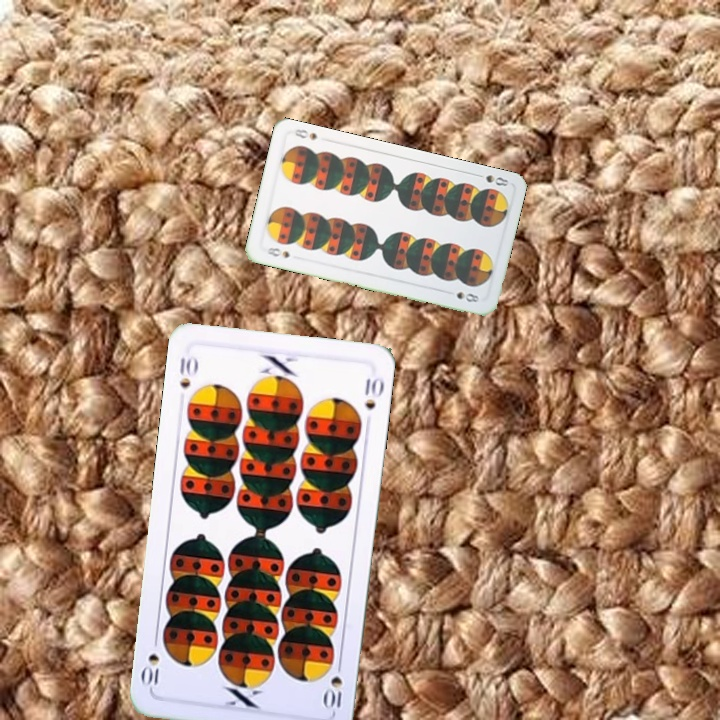S10: (321, 656, 345, 712), (175, 352, 200, 391)
S8: (471, 170, 511, 189), (263, 243, 292, 261)
